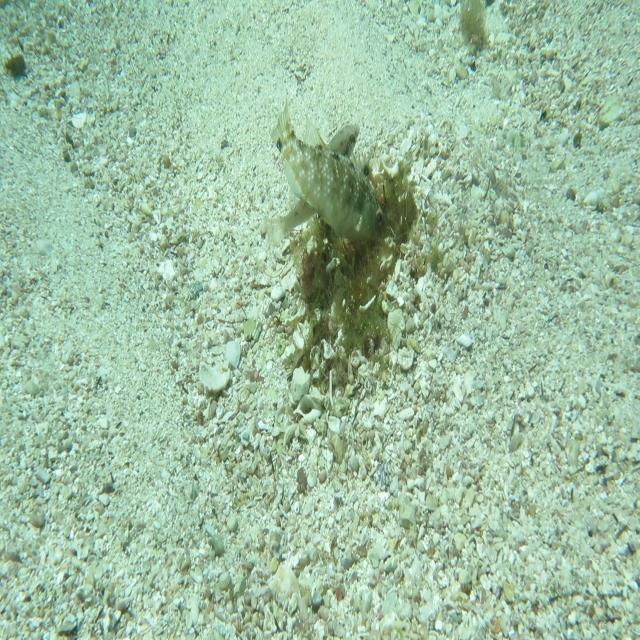NIP_CORE: (268, 93, 391, 246)
core_nest: (364, 202, 406, 246)
female: (263, 123, 360, 255)
nest: (289, 148, 442, 405)
